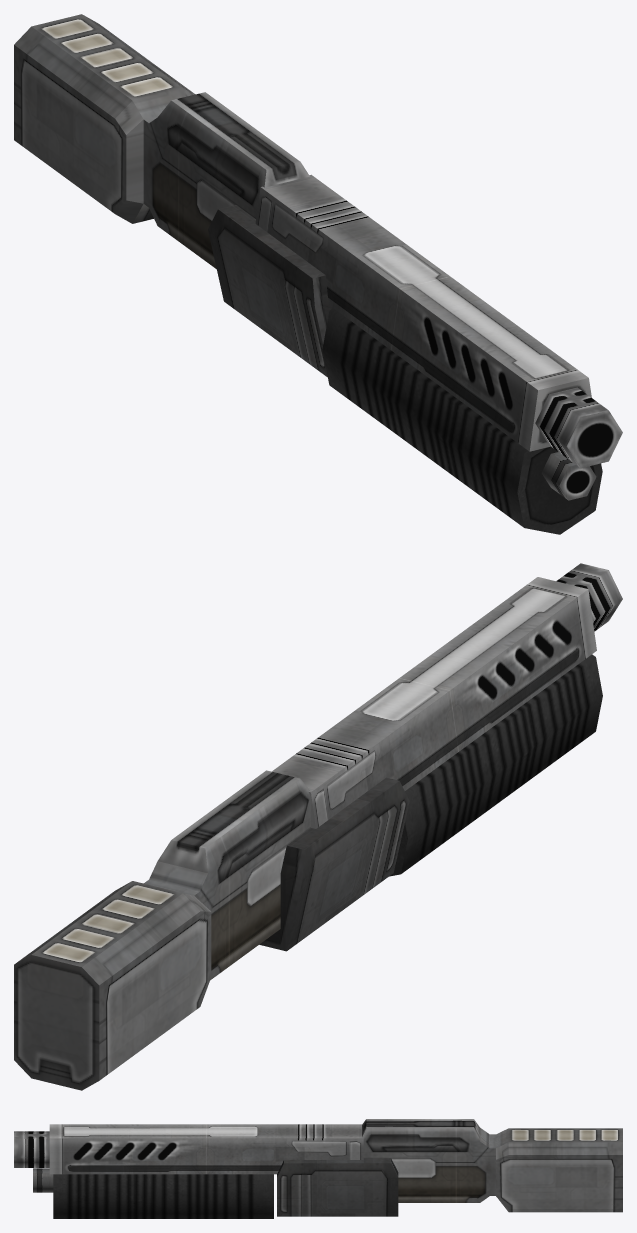
Rendered from weapon_shotgun_2.fbx.
3 views of the same model, one above another, from view 1: azimuth 30°, elevation 25°; view 2: azimuth 150°, elevation 25°; view 3: azimuth 270°, elevation 25° (orthographic). The views are drawn at different scales.
Visible parts, largest first — view 1: shotgun2; view 2: shotgun2; view 3: shotgun2.
Boxes of the visible parts, x1=… form: shotgun2: x1=14, y1=14, x2=622, y2=534; shotgun2: x1=14, y1=563, x2=622, y2=1090; shotgun2: x1=14, y1=1119, x2=622, y2=1218.
Size of the model in its own units: 0.3752 by 0.6296 by 3.69.
1 material, 1 textured.
